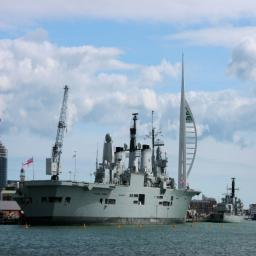Portanaves: (11, 109, 203, 228)
